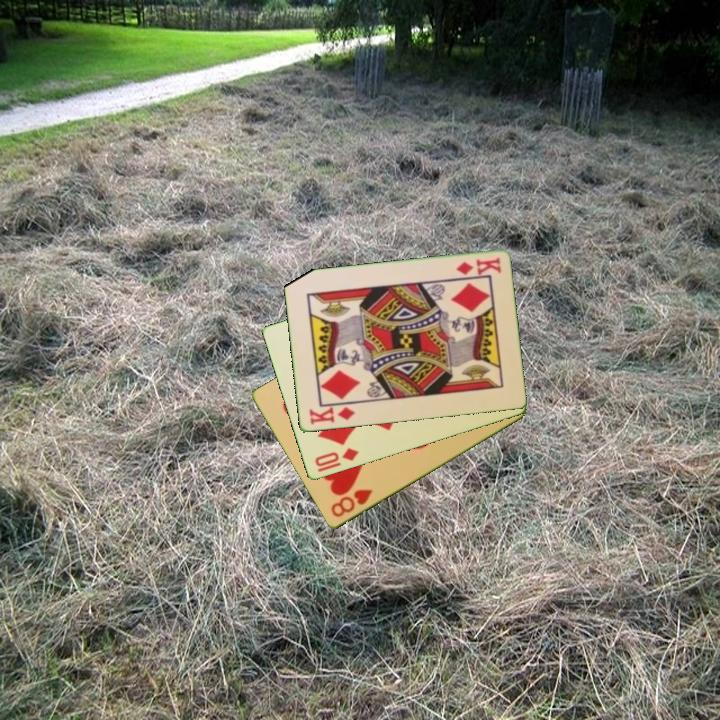10d: (311, 444, 361, 475)
8h: (327, 486, 375, 521)
Kd: (305, 404, 358, 428), (452, 254, 503, 278)
